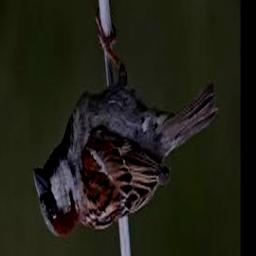Sparrow: (33, 12, 218, 239)
